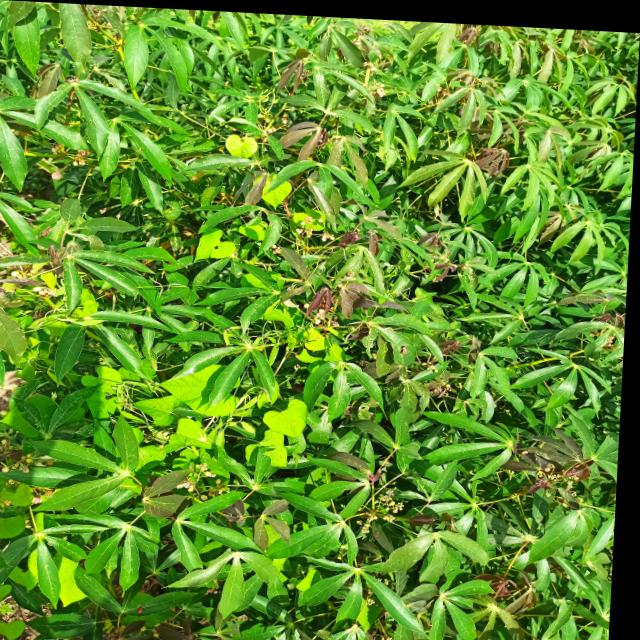Maleza: (174, 376, 246, 432), (252, 391, 307, 452), (193, 226, 240, 261), (258, 176, 293, 206), (214, 128, 256, 149)
Mosaico: (516, 434, 585, 492), (318, 282, 387, 328), (478, 145, 507, 175)
